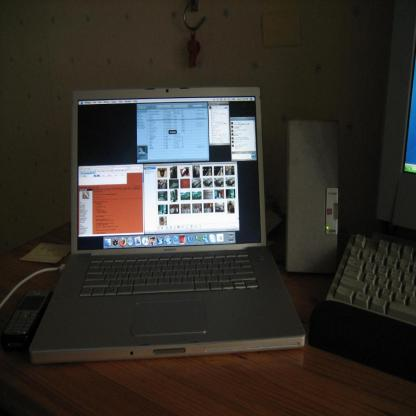board: (29, 84, 305, 363)
